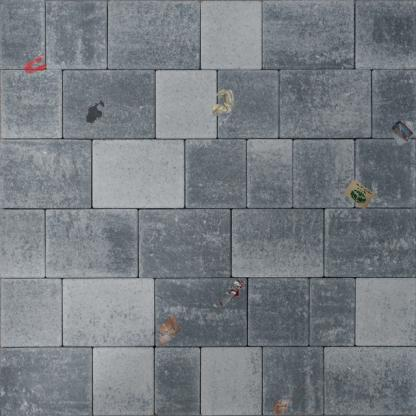dirty: (342, 178, 376, 211), (156, 313, 184, 347), (217, 278, 245, 308), (210, 87, 236, 118), (389, 118, 415, 146), (271, 396, 292, 416)
liquid: (84, 99, 106, 125), (22, 53, 48, 74)
